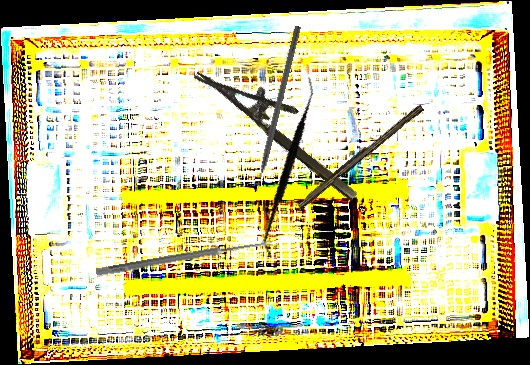Hook Surgical: (251, 25, 302, 193)
Needle Holder: (193, 45, 375, 204)
Scalpel Handle: (295, 100, 425, 212)
Spatula Surgical: (222, 75, 358, 259)
Surgical Spoon: (95, 237, 274, 278)
